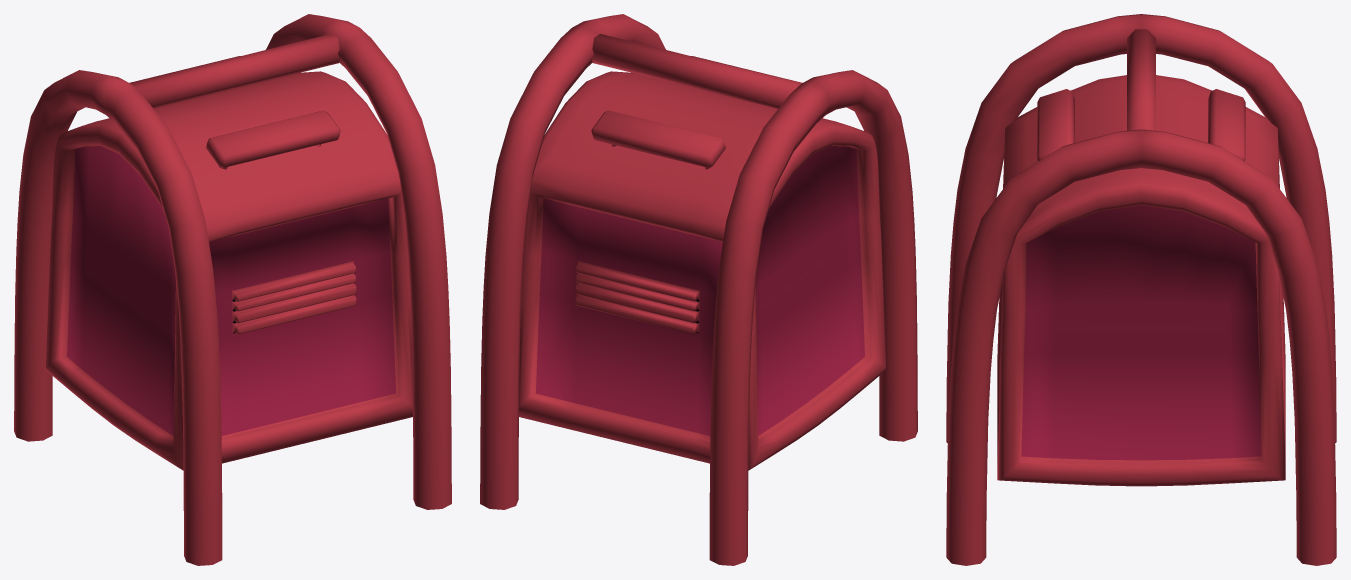
File: Mailbox_Outside.glb
The picture shows the model from 3 angles, left to right: view 1: azimuth 30°, elevation 25°; view 2: azimuth 150°, elevation 25°; view 3: azimuth 270°, elevation 25°; orthographic projection. The views are drawn at different scales.
Parts seen in each view (by area): view 1: Mailbox_Outside; view 2: Mailbox_Outside; view 3: Mailbox_Outside.
Part boxes in pixels (bbox=[...]): Mailbox_Outside: bbox=[14, 14, 451, 565]; Mailbox_Outside: bbox=[480, 14, 917, 565]; Mailbox_Outside: bbox=[946, 14, 1336, 565].
Size of the model in its own units: 0.3118 by 0.4689 by 0.3887.
Materials: 1 (1 with a texture image).
